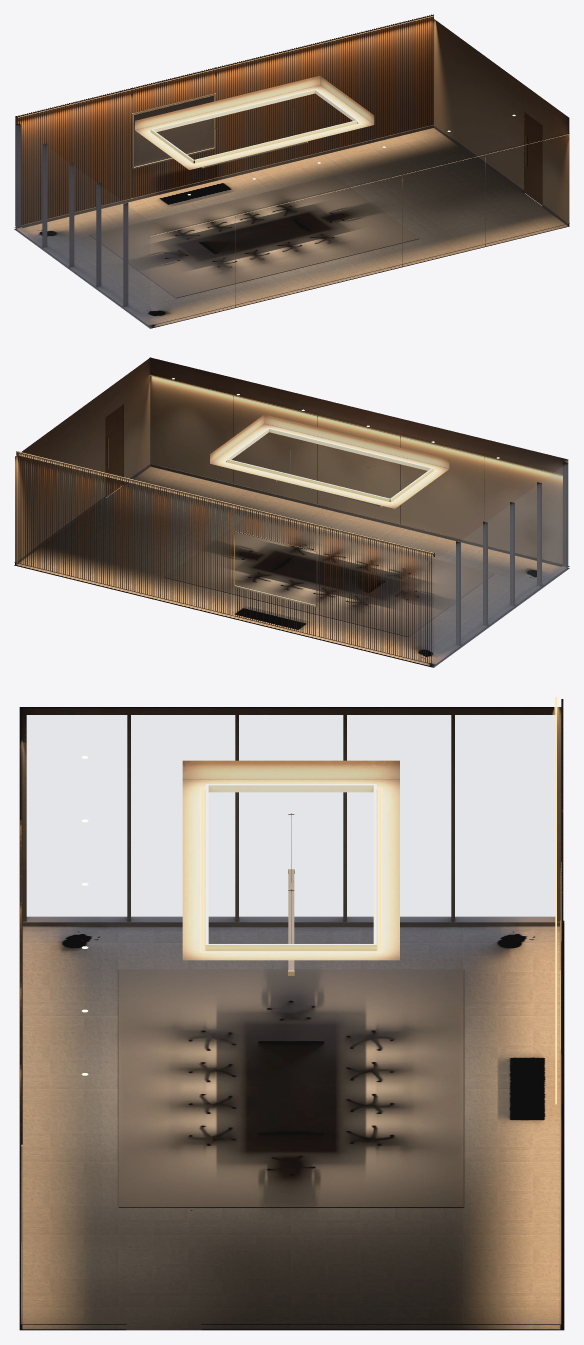
File: room.glb
3 views of the same model, one above another, from view 1: azimuth 30°, elevation 25°; view 2: azimuth 150°, elevation 25°; view 3: azimuth 270°, elevation 25° (orthographic). The views are drawn at different scales.
Visible parts, largest first — view 1: Room_Floor, Room_Back, Room_Walls, Glass, Room_Ceiling, Emit_WallWash; view 2: Room_Walls, Room_Floor, Room_Back, Glass, Room_Ceiling, Emit_WallWash; view 3: Room_Floor, Glass, Room_Ceiling, Room_Walls, Room_Back, Emit_Cove, Emit_WallWash.
Part boxes in pixels (box(x1,y1,x2,y2)): Room_Floor: box(14, 125, 569, 328); Room_Back: box(15, 14, 433, 226); Room_Walls: box(14, 19, 569, 326); Glass: box(18, 126, 149, 323); Room_Ceiling: box(135, 76, 374, 169); Emit_WallWash: box(18, 15, 434, 117); Room_Walls: box(15, 357, 569, 665); Room_Floor: box(14, 463, 569, 667); Room_Back: box(16, 453, 431, 663); Glass: box(434, 465, 565, 662); Room_Ceiling: box(16, 414, 449, 556); Emit_WallWash: box(17, 451, 433, 553); Room_Floor: box(19, 920, 564, 1330); Glass: box(27, 715, 554, 917); Room_Ceiling: box(182, 760, 399, 975); Room_Walls: box(19, 707, 561, 1242); Room_Back: box(560, 699, 563, 1323); Emit_Cove: box(201, 787, 381, 952); Emit_WallWash: box(555, 697, 556, 1104).
Size of the model in its own units: 12.94 by 3.51 by 7.26.
10 materials, 4 textured.
